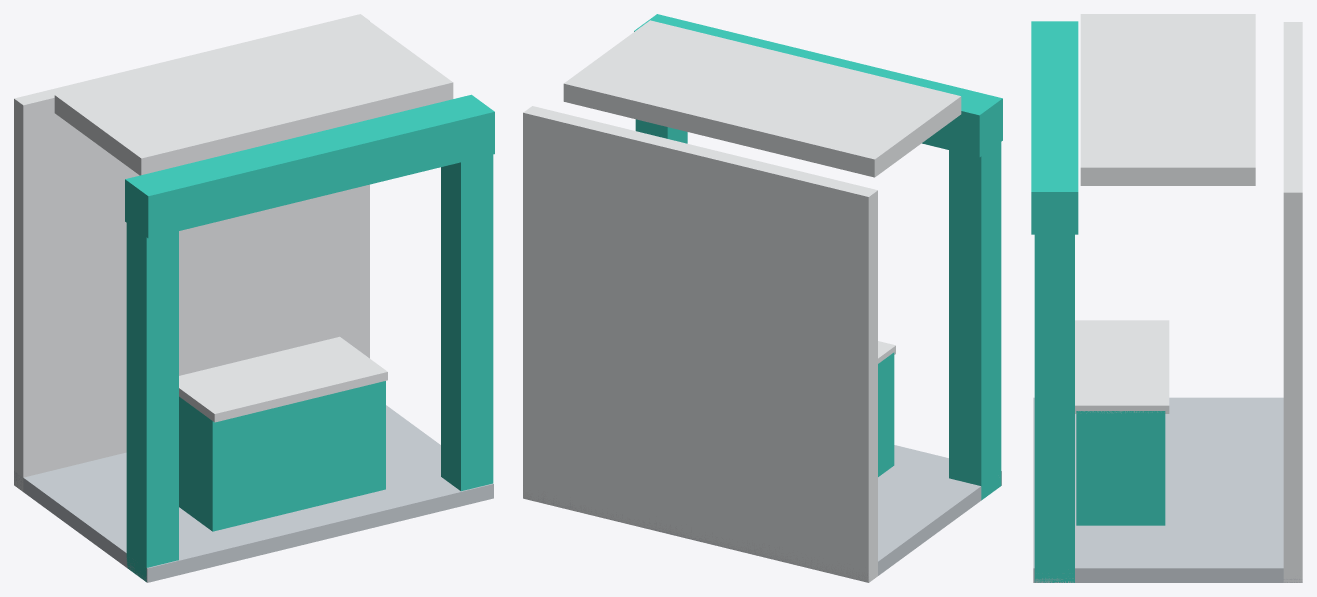
The picture shows the model from 3 angles, left to right: view 1: azimuth 30°, elevation 25°; view 2: azimuth 150°, elevation 25°; view 3: azimuth 270°, elevation 25°; orthographic projection.
Visible parts, largest first — view 1: Exhibition Booth Concept; view 2: Exhibition Booth Concept; view 3: Exhibition Booth Concept.
Part boxes in pixels (x1,y1,x2,y2): Exhibition Booth Concept: [14, 14, 494, 582]; Exhibition Booth Concept: [523, 14, 1002, 582]; Exhibition Booth Concept: [1031, 14, 1302, 582].
Bounding box in the file's own units: 3 × 3.34 × 2.01.
